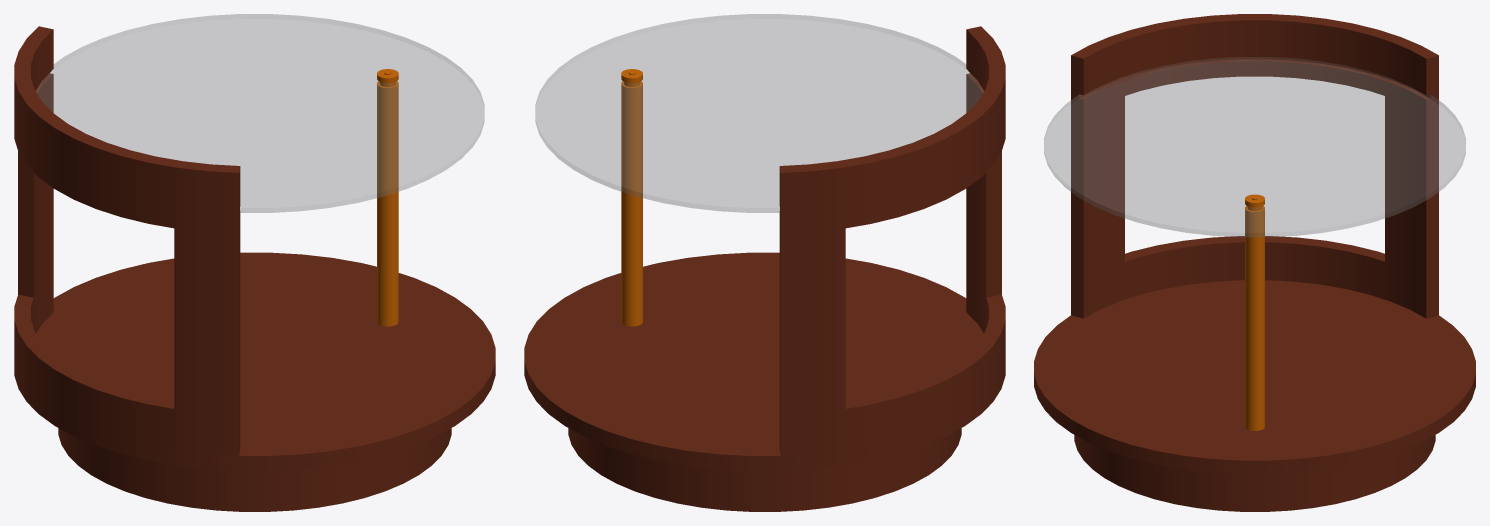
The model's file is tablemodel5.fbx.
3 renders of one model, left to right at view 1: azimuth 30°, elevation 25°; view 2: azimuth 150°, elevation 25°; view 3: azimuth 270°, elevation 25°, orthographic. The views are drawn at different scales.
Parts seen in each view (by area): view 1: glass1, base1, upright2, base_pedestal1, upper_curved_member1, lower_curved_stretcher1, upright1, copper_upright1; view 2: glass1, base1, upright1, base_pedestal1, upper_curved_member1, lower_curved_stretcher1, upright2, copper_upright1; view 3: base1, glass1, upper_curved_member1, upright1, upright2, base_pedestal1, lower_curved_stretcher1, copper_upright1.
Boxes of the visible parts, x1,y1,x2,y2 form: glass1: (36, 14, 484, 212); base1: (14, 252, 495, 470); upright2: (174, 160, 240, 455); base_pedestal1: (58, 428, 451, 511); upper_curved_member1: (14, 53, 175, 228); lower_curved_stretcher1: (14, 294, 174, 449); upright1: (18, 26, 53, 333); copper_upright1: (377, 69, 398, 326); glass1: (535, 14, 983, 212); base1: (524, 252, 1005, 470); upright1: (779, 160, 845, 455); base_pedestal1: (568, 428, 961, 511); upper_curved_member1: (844, 53, 1005, 228); lower_curved_stretcher1: (845, 294, 1005, 449); upright2: (966, 26, 1001, 333); copper_upright1: (621, 69, 642, 326); base1: (1034, 280, 1475, 474); glass1: (1044, 57, 1465, 236); upper_curved_member1: (1112, 14, 1397, 95); upright1: (1385, 36, 1438, 318); upright2: (1071, 36, 1124, 318); base_pedestal1: (1074, 435, 1435, 511); lower_curved_stretcher1: (1125, 236, 1384, 299); copper_upright1: (1245, 194, 1264, 430).
Size of the model in its own units: 55.76 by 45.72 by 55.76.
